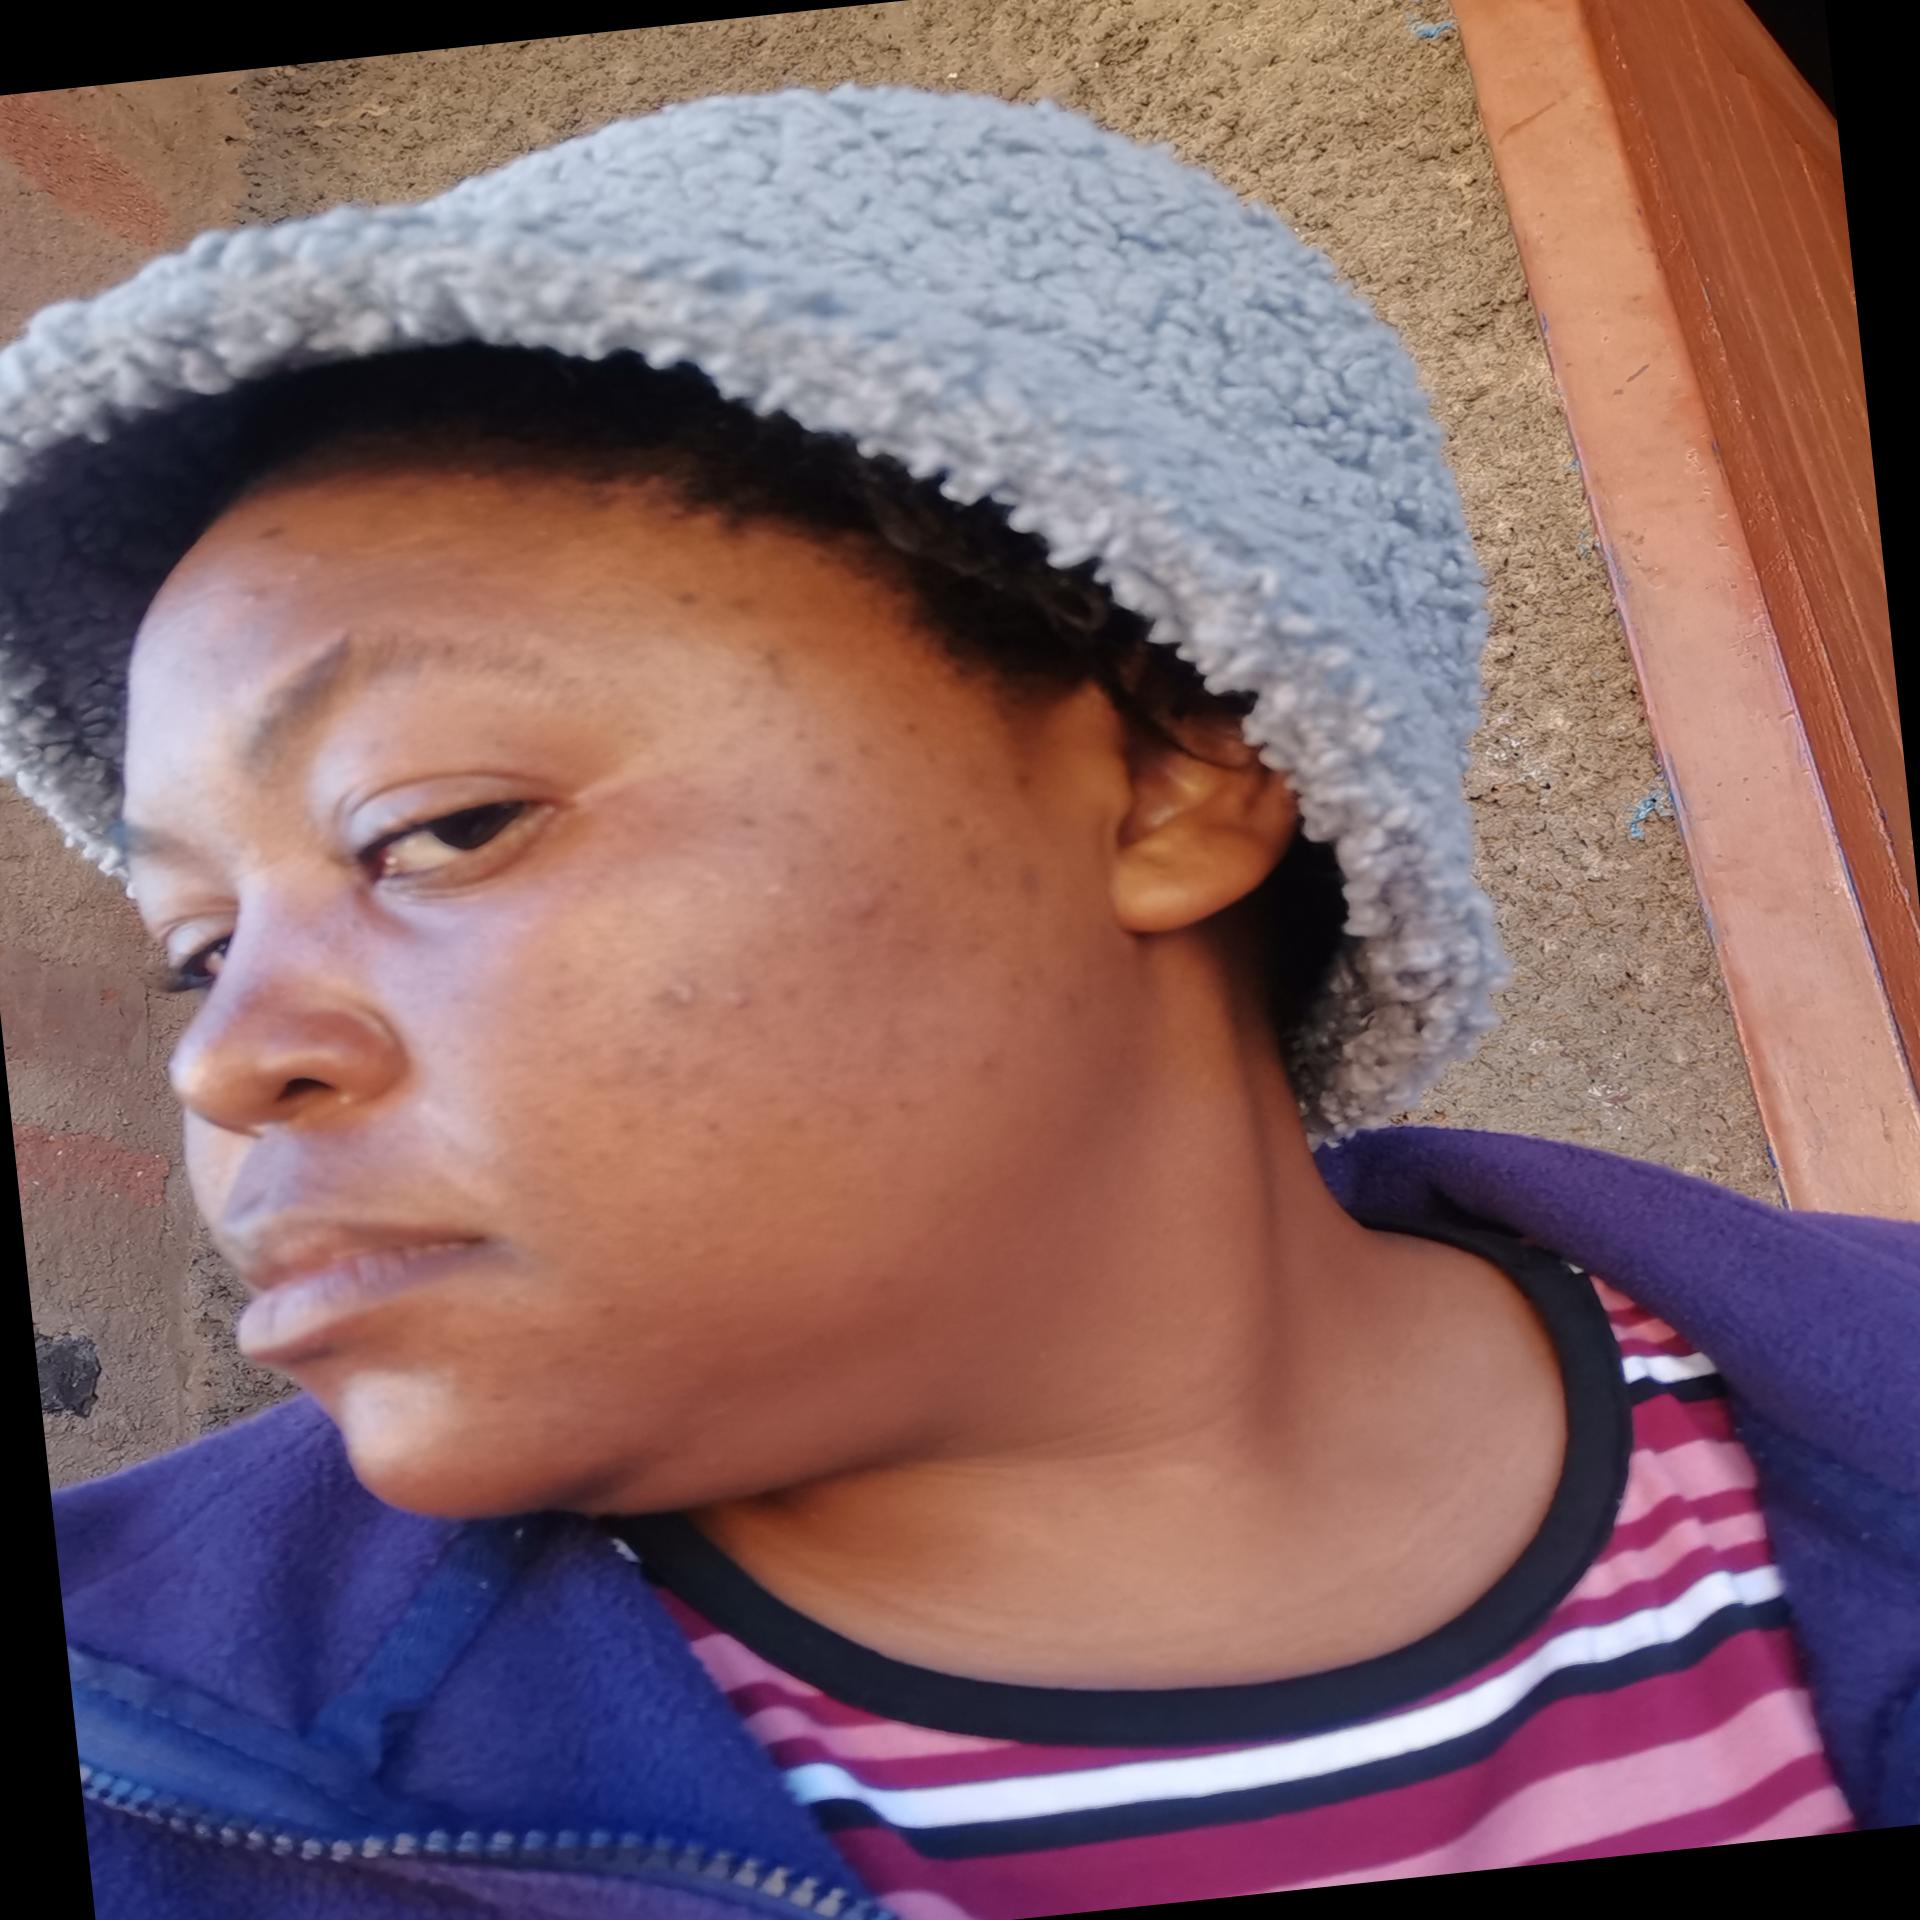Acne: (768, 798, 905, 941), (928, 796, 1046, 914), (554, 1034, 695, 1109), (754, 1060, 867, 1143), (992, 953, 1094, 1034), (220, 549, 339, 607), (629, 956, 714, 1027), (949, 1036, 1018, 1092), (670, 580, 751, 626), (744, 645, 796, 696), (795, 740, 846, 789), (714, 978, 772, 1018), (243, 512, 304, 545), (580, 1292, 628, 1322), (686, 1113, 731, 1138), (886, 717, 927, 744)
